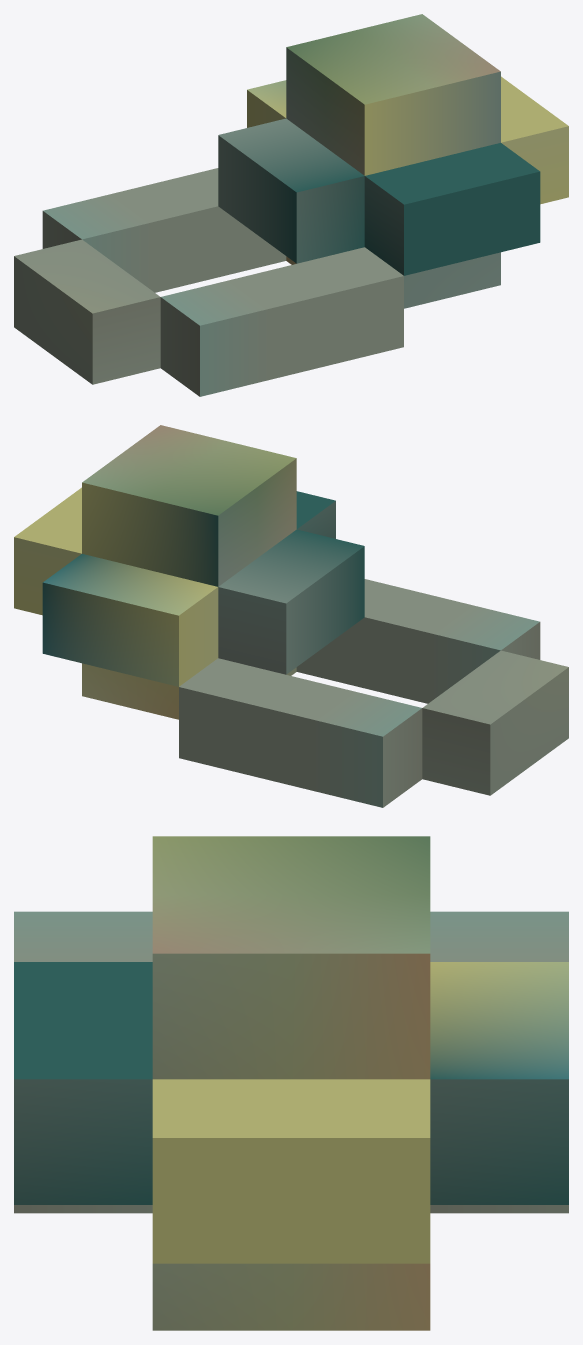
Rendered from BabyRattle_A_00.obj.
3 renders of one model, top to bottom at view 1: azimuth 30°, elevation 25°; view 2: azimuth 150°, elevation 25°; view 3: azimuth 270°, elevation 25°, orthographic. The views are drawn at different scales.
Visible parts, largest first — view 1: BabyRattle_A_00; view 2: BabyRattle_A_00; view 3: BabyRattle_A_00.
Part boxes in pixels (x1,y1,x2,y2): BabyRattle_A_00: (14,14,568,396); BabyRattle_A_00: (14,425,568,807); BabyRattle_A_00: (14,836,568,1330).
Size of the model in its own units: 0.35 by 0.15 by 0.2.
